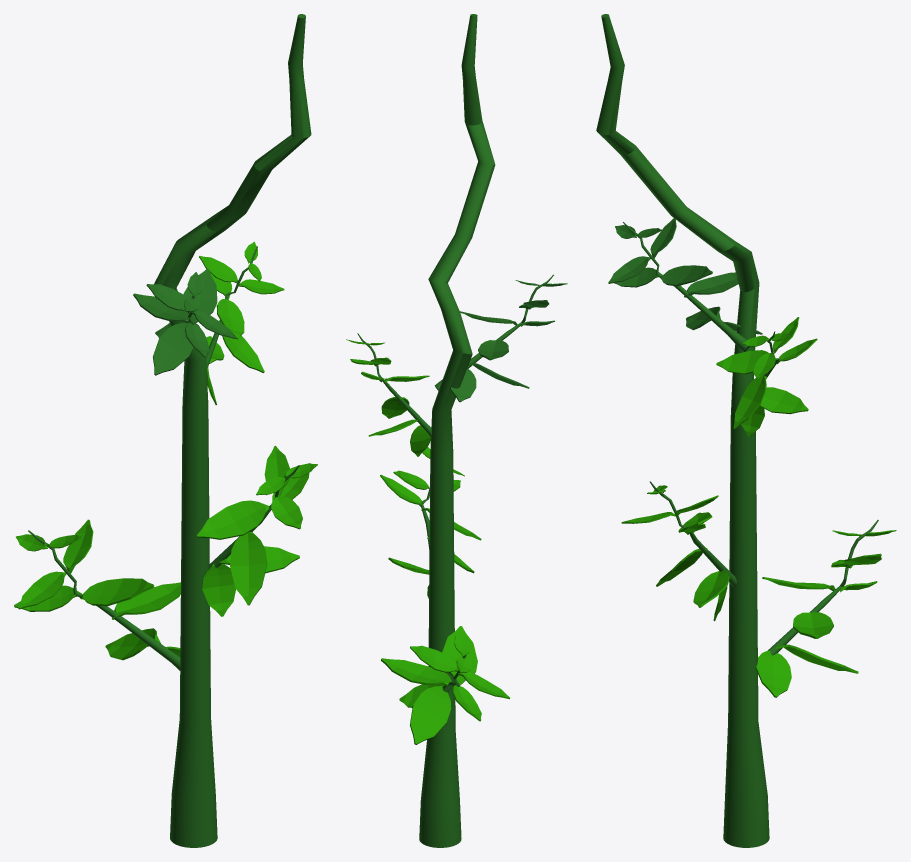
Rendered from Potato2.fbx.
3 renders of one model, left to right at view 1: azimuth 30°, elevation 25°; view 2: azimuth 150°, elevation 25°; view 3: azimuth 270°, elevation 25°, orthographic. The views are drawn at different scales.
Visible parts, largest first — view 1: Cylinder.015; view 2: Cylinder.015; view 3: Cylinder.015.
Boxes of the visible parts, <box> form: Cylinder.015: <box>14,14,317,847</box>; Cylinder.015: <box>346,14,567,847</box>; Cylinder.015: <box>596,14,896,847</box>.
Size of the model in its own units: 5.33 by 19.79 by 6.42.
